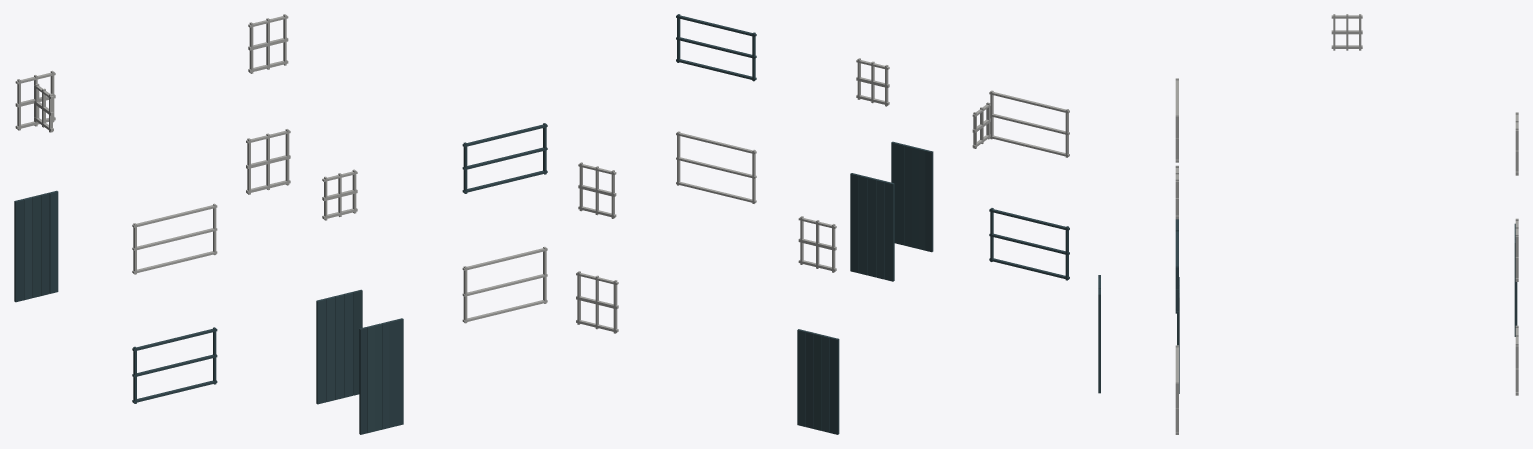
Rendered from SM_Bld_021_Wood.glb.
3 views of the same model, side by side, from view 1: azimuth 30°, elevation 25°; view 2: azimuth 150°, elevation 25°; view 3: azimuth 270°, elevation 25° (orthographic). The views are drawn at different scales.
Visible parts, largest first — view 1: SM_Bld_021_Wood; view 2: SM_Bld_021_Wood; view 3: SM_Bld_021_Wood.
Part boxes in pixels (box(x1,y1,x2,y2)): SM_Bld_021_Wood: box(14, 14, 547, 434); SM_Bld_021_Wood: box(576, 14, 1069, 434); SM_Bld_021_Wood: box(1098, 14, 1518, 434).
Bounding box in the file's own units: 8.63 × 5.85 × 8.1.
